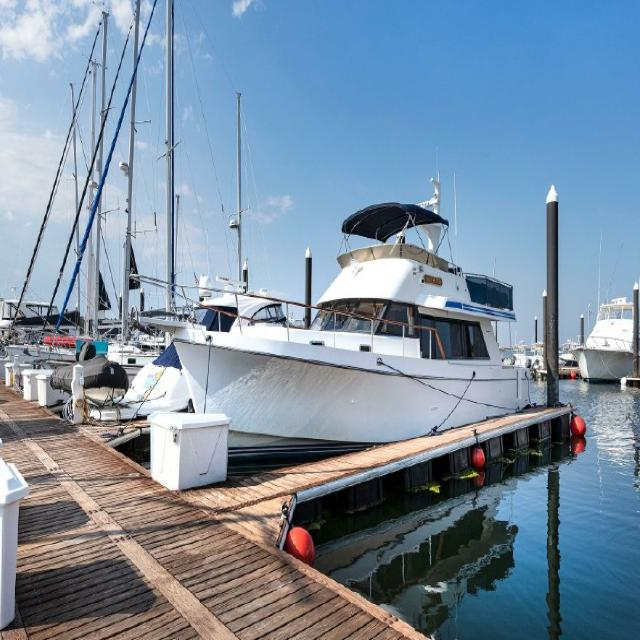passenger ship: (182, 202, 546, 462)
